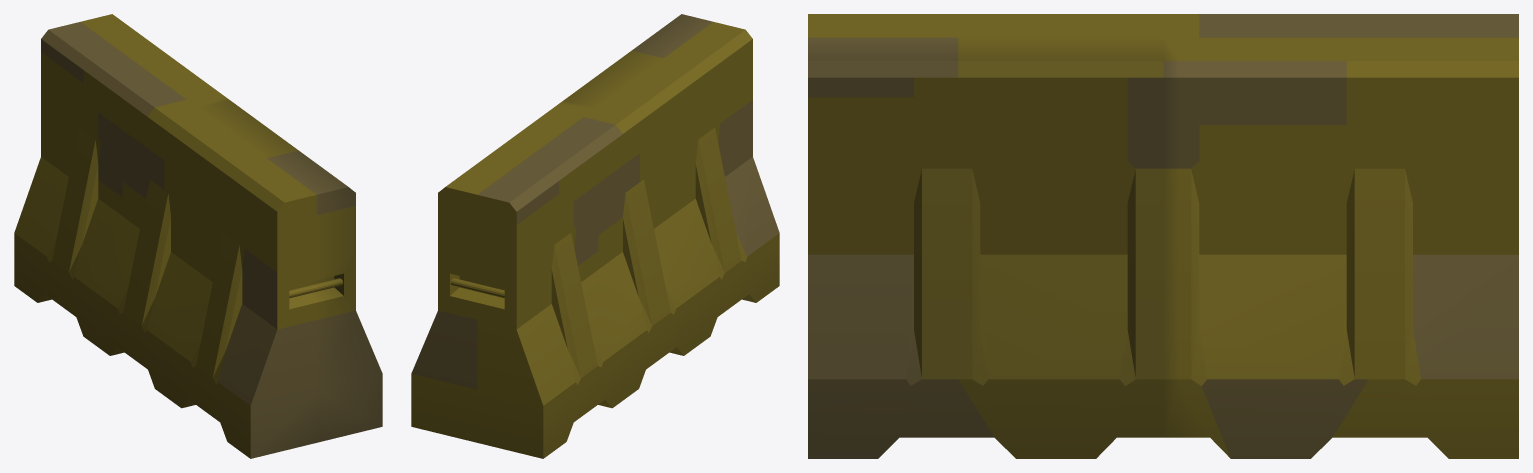
File: ct_barrier_b.glb
The picture shows the model from 3 angles, left to right: view 1: azimuth 30°, elevation 25°; view 2: azimuth 150°, elevation 25°; view 3: azimuth 270°, elevation 25°; orthographic projection. The views are drawn at different scales.
Visible parts, largest first — view 1: ct_barrier_b; view 2: ct_barrier_b; view 3: ct_barrier_b.
Boxes of the visible parts, box(x1,y1,x2,y2) form: ct_barrier_b: box(14, 14, 382, 458); ct_barrier_b: box(411, 14, 779, 458); ct_barrier_b: box(808, 14, 1518, 458).
Size of the model in its own units: 0.3339 by 0.5995 by 1.04.
